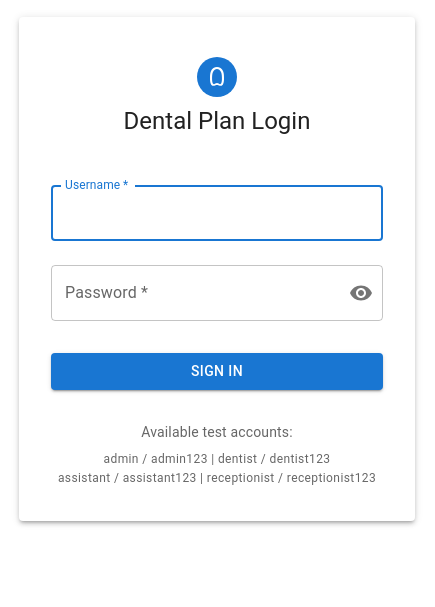
Scenario: LoginPage › shows error message for invalid credentials
The width and height of the screenshot is (435, 607).
Type "wrong" into the field labelled "Username *" at (217, 213), box [51,185,383,241]
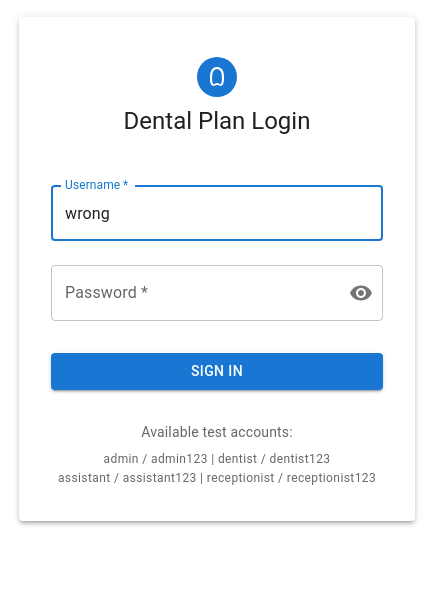
Type "wrong123" into the password field labelled "Password *" at (192, 293), box [51,265,333,321]
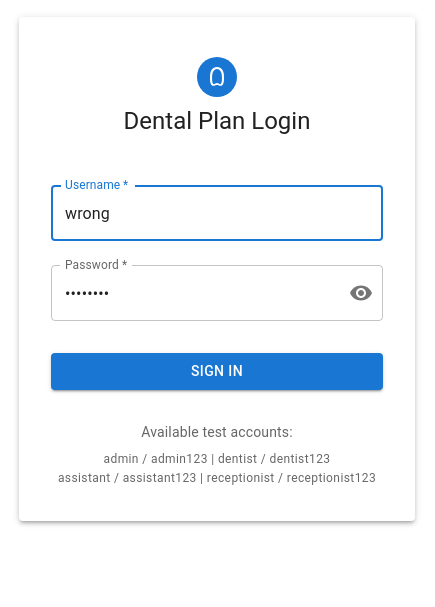
Click the button "Sign In" at (217, 371), box [51,353,383,390]
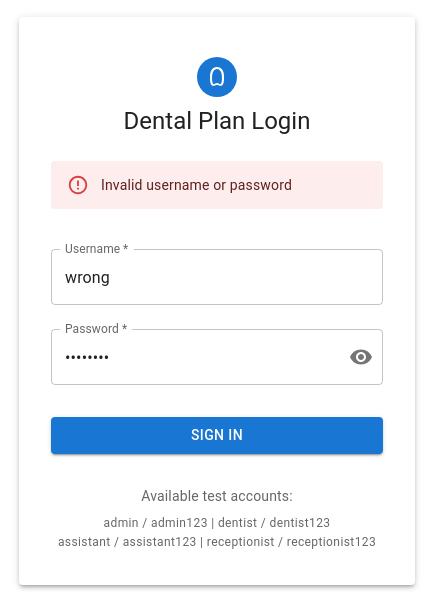
Now the text "Invalid username or password" is shown, box [101,177,292,193]
